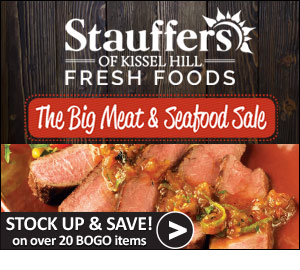fake_button: (0, 210, 201, 252)
